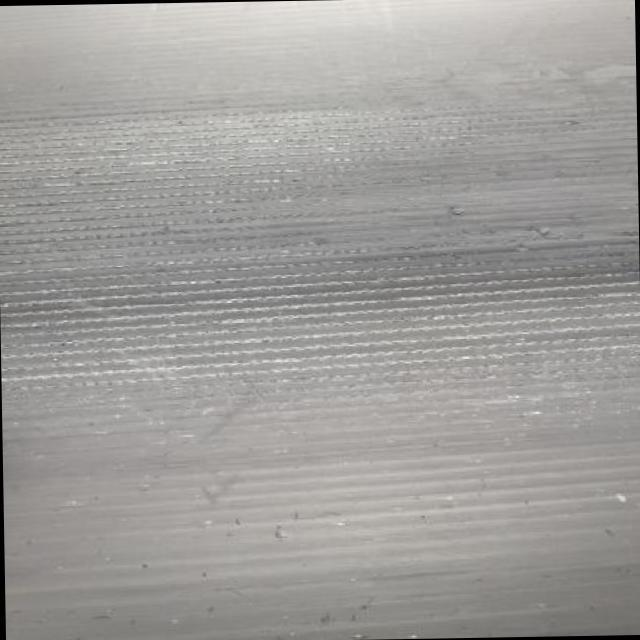Wear: (0, 89, 640, 407)
